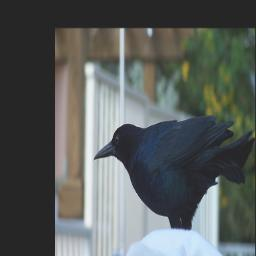Crow: (93, 114, 254, 229)
